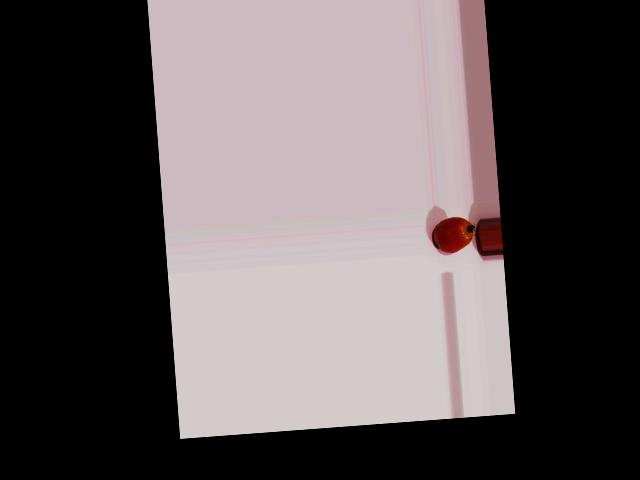tomato: (433, 216, 474, 254)
